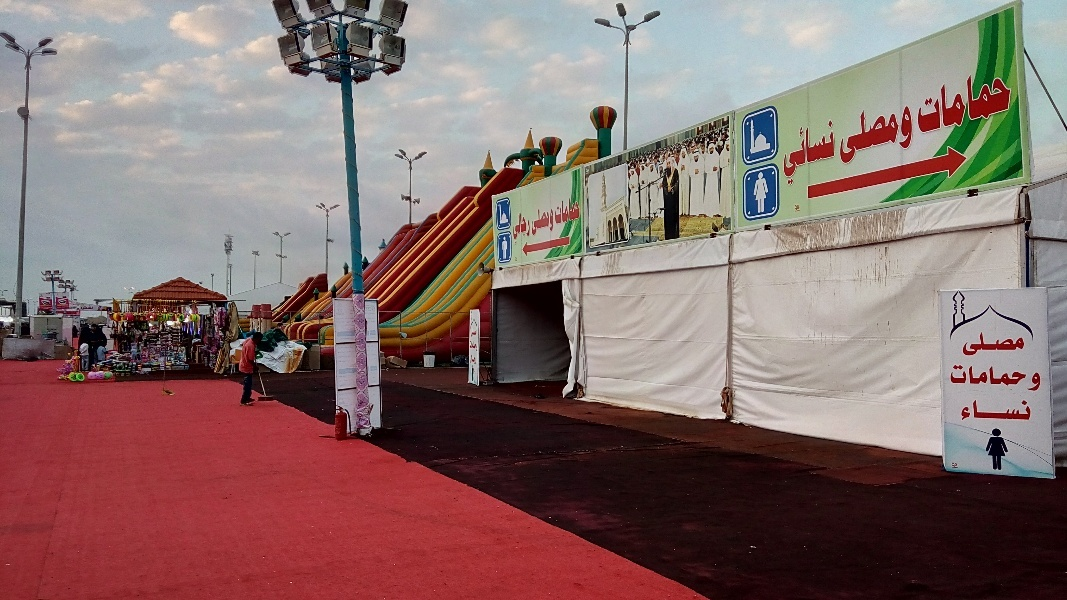text: (929, 63, 944, 138), (945, 63, 960, 138), (961, 63, 976, 138), (977, 63, 992, 138), (993, 63, 1008, 138), (785, 115, 800, 187), (801, 115, 816, 187), (817, 115, 832, 187), (849, 99, 864, 168), (865, 99, 880, 168), (881, 99, 896, 168), (916, 63, 928, 138), (899, 103, 912, 151), (840, 99, 848, 168), (513, 212, 528, 246), (561, 196, 576, 226), (530, 206, 544, 237), (977, 331, 992, 357), (993, 331, 1008, 357), (1009, 331, 1024, 357), (961, 364, 976, 387), (977, 364, 992, 387), (993, 364, 1008, 387), (1009, 364, 1024, 387), (963, 331, 976, 357), (977, 400, 992, 421), (993, 400, 1008, 421), (1009, 400, 1024, 421), (1009, 63, 1013, 138), (962, 400, 976, 421), (833, 115, 837, 187), (897, 99, 901, 168), (951, 364, 960, 387), (551, 209, 560, 232), (913, 103, 917, 151), (545, 206, 550, 237), (555, 196, 560, 226), (1033, 372, 1040, 393), (1025, 400, 1032, 421), (469, 354, 480, 367), (577, 196, 581, 226), (81, 304, 96, 311), (471, 328, 480, 337), (470, 341, 480, 349), (529, 212, 531, 246), (1025, 364, 1027, 387), (69, 305, 80, 309), (70, 301, 80, 305), (40, 305, 48, 310), (67, 309, 80, 312), (57, 304, 64, 309), (1025, 331, 1026, 357), (477, 344, 480, 352), (1041, 372, 1042, 393), (49, 305, 53, 310), (65, 304, 68, 309)
